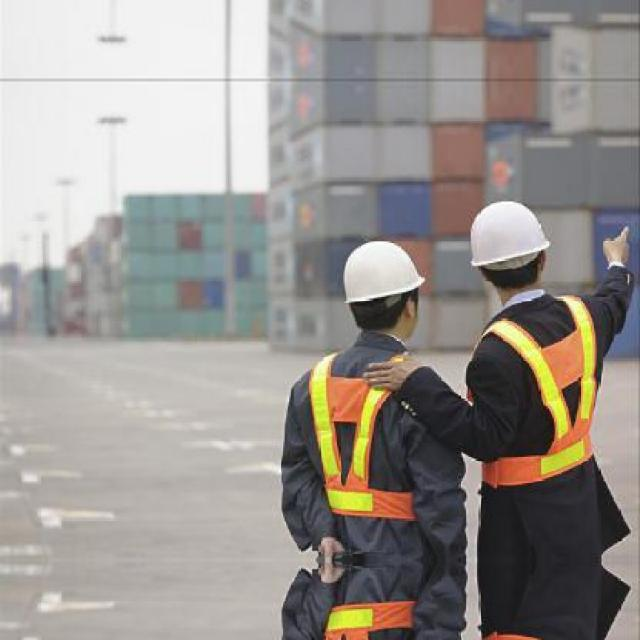Reflective-Jacket: (282, 336, 464, 550), (465, 291, 612, 494)
Safety-Helmet: (457, 194, 560, 280), (330, 231, 436, 314)
